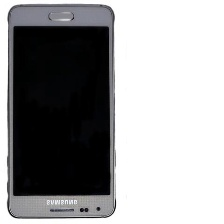phone: (4, 1, 121, 221)
